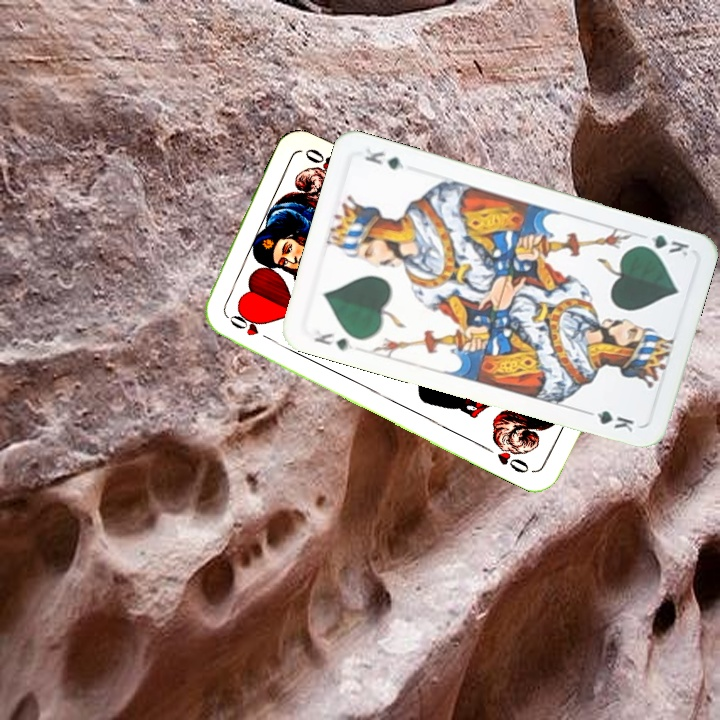GK: (633, 231, 692, 259), (310, 329, 355, 353)
HO: (221, 310, 276, 344)
